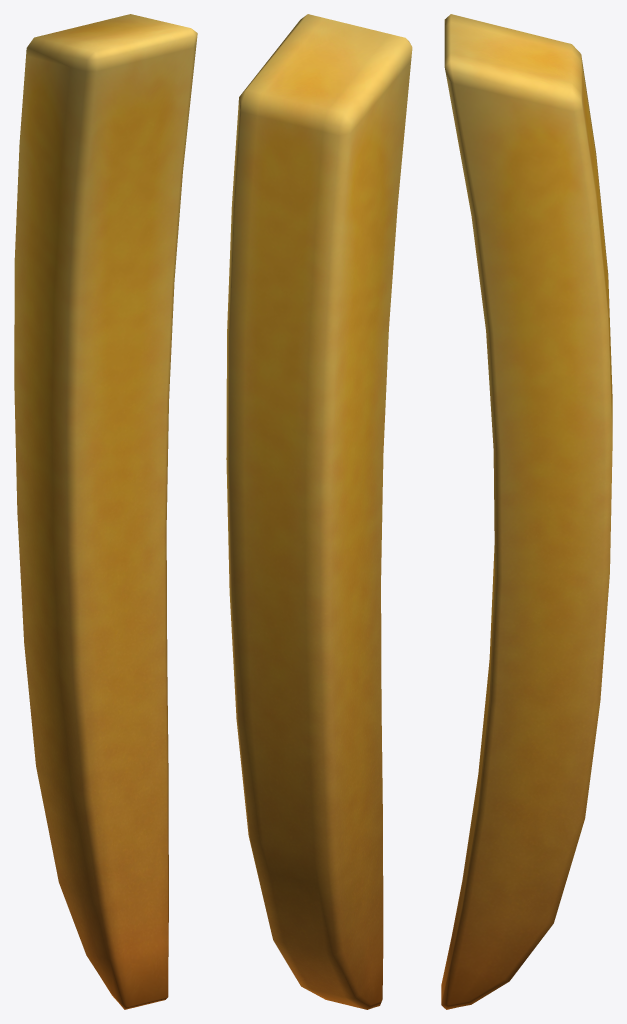
Rendered from french-fries.fbx.
3 renders of one model, left to right at view 1: azimuth 30°, elevation 25°; view 2: azimuth 150°, elevation 25°; view 3: azimuth 270°, elevation 25°, orthographic.
Parts seen in each view (by area): view 1: FrenchFries_FrenchFries_0; view 2: FrenchFries_FrenchFries_0; view 3: FrenchFries_FrenchFries_0.
Boxes of the visible parts, box(x1,y1,x2,y2) form: FrenchFries_FrenchFries_0: box(14, 14, 197, 1009); FrenchFries_FrenchFries_0: box(226, 14, 412, 1009); FrenchFries_FrenchFries_0: box(441, 14, 612, 1009).
Size of the model in its own units: 4.85 by 40.3 by 6.5.
1 material, 1 textured.
